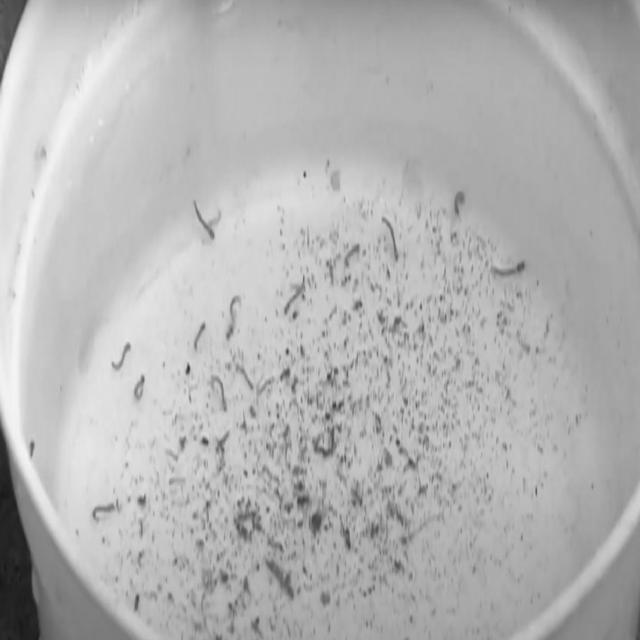larvas: (193, 203, 216, 238), (284, 277, 305, 313), (226, 296, 242, 342), (384, 215, 398, 264), (494, 257, 524, 278), (112, 340, 131, 370), (213, 376, 227, 411), (343, 245, 362, 265), (93, 504, 113, 521), (134, 376, 145, 404), (454, 188, 464, 217), (194, 324, 204, 349)
